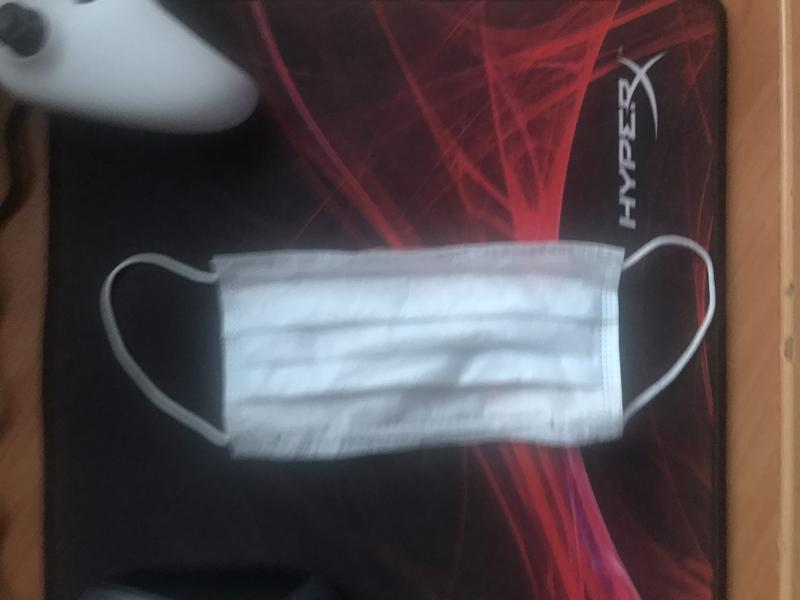medical_mask: (103, 234, 717, 451)
